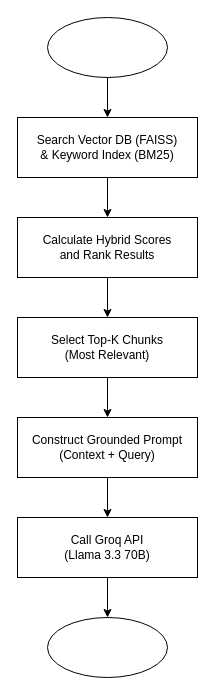
Image size: 215x695. Some labels were removed from this diagram. The shapes that lost their labels are listed below. From the top down, each one's box as (x1, y1, x2, y2) in pixels, then its label:
(46, 16, 168, 78): USER QUERY
(46, 616, 168, 678): DISPLAY ANSWER
